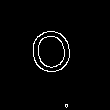O_S: (30, 26, 80, 84)
